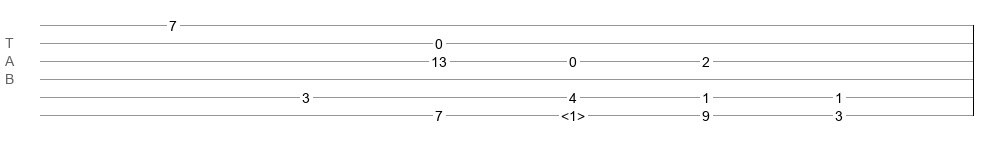0: (435, 36, 443, 46), (569, 54, 577, 64)
1: (702, 90, 710, 100), (835, 90, 843, 100)
13: (431, 54, 447, 64)
2: (702, 54, 710, 64)
3: (302, 90, 310, 100), (835, 108, 843, 118)
4: (569, 90, 577, 100)
7: (169, 18, 177, 28), (435, 108, 443, 118)
9: (702, 108, 710, 118)
harmonic: (561, 108, 585, 118)
